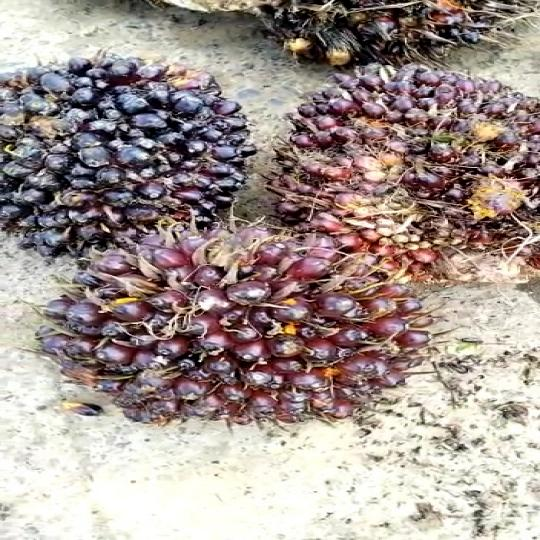kurang masak: (27, 235, 458, 431), (260, 57, 540, 266), (0, 39, 258, 252)
